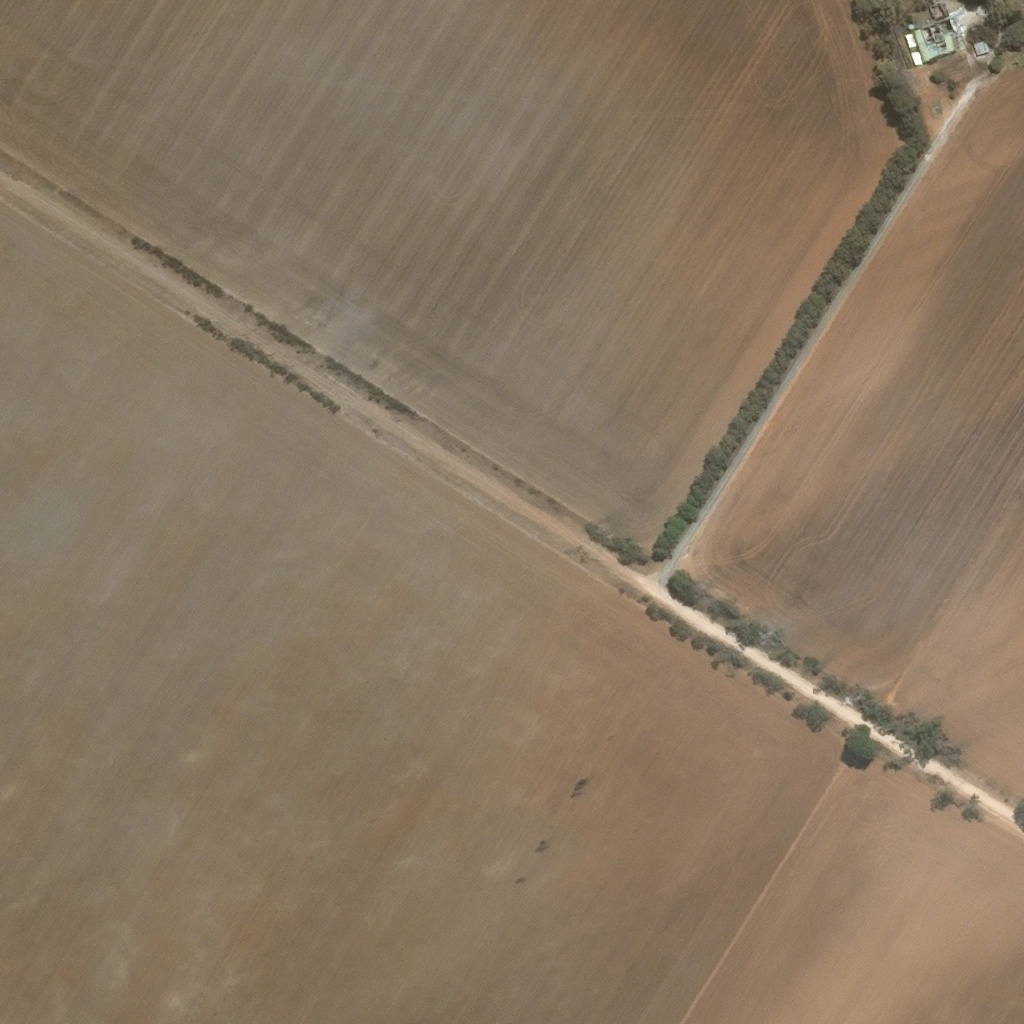0 no-damage: (971, 39, 987, 54)
